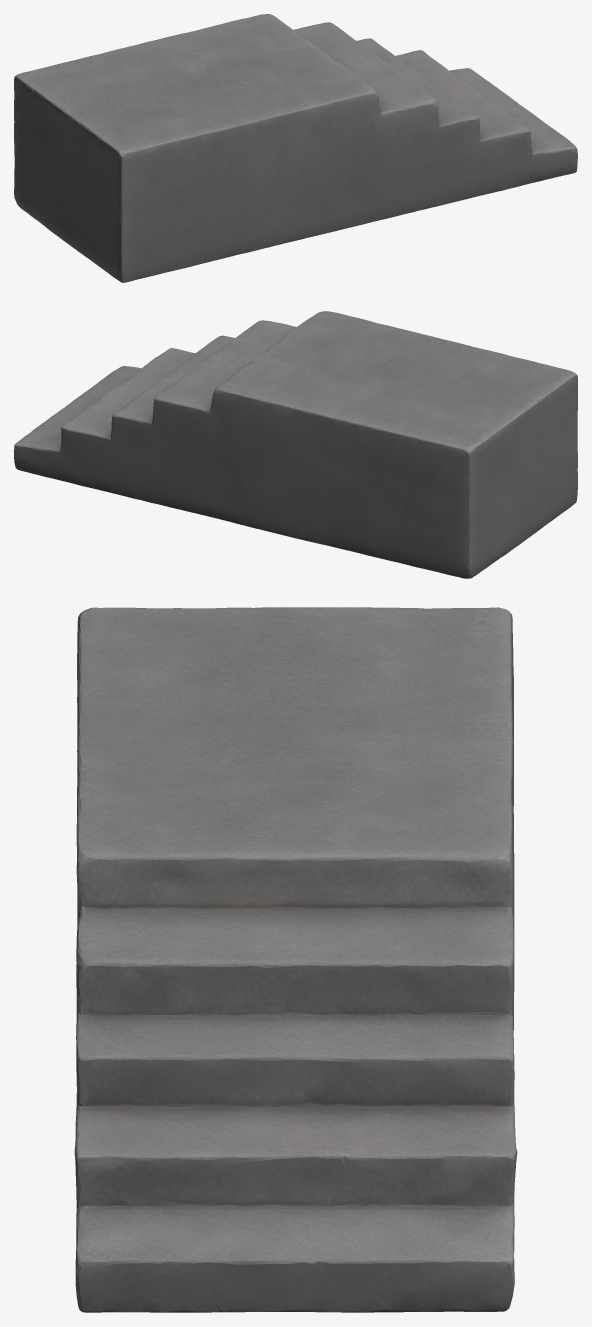
3 views of the same model, one above another, from view 1: azimuth 30°, elevation 25°; view 2: azimuth 150°, elevation 25°; view 3: azimuth 270°, elevation 25° (orthographic). The views are drawn at different scales.
Visible parts, largest first — view 1: Mesh; view 2: Mesh; view 3: Mesh.
Part boxes in pixels (x1,y1,x2,y2): Mesh: (14,14,577,282); Mesh: (14,311,577,578); Mesh: (74,607,517,1312).
Size of the model in its own units: 1.92 by 0.5302 by 0.8045.
Materials: 1 (1 with a texture image).
